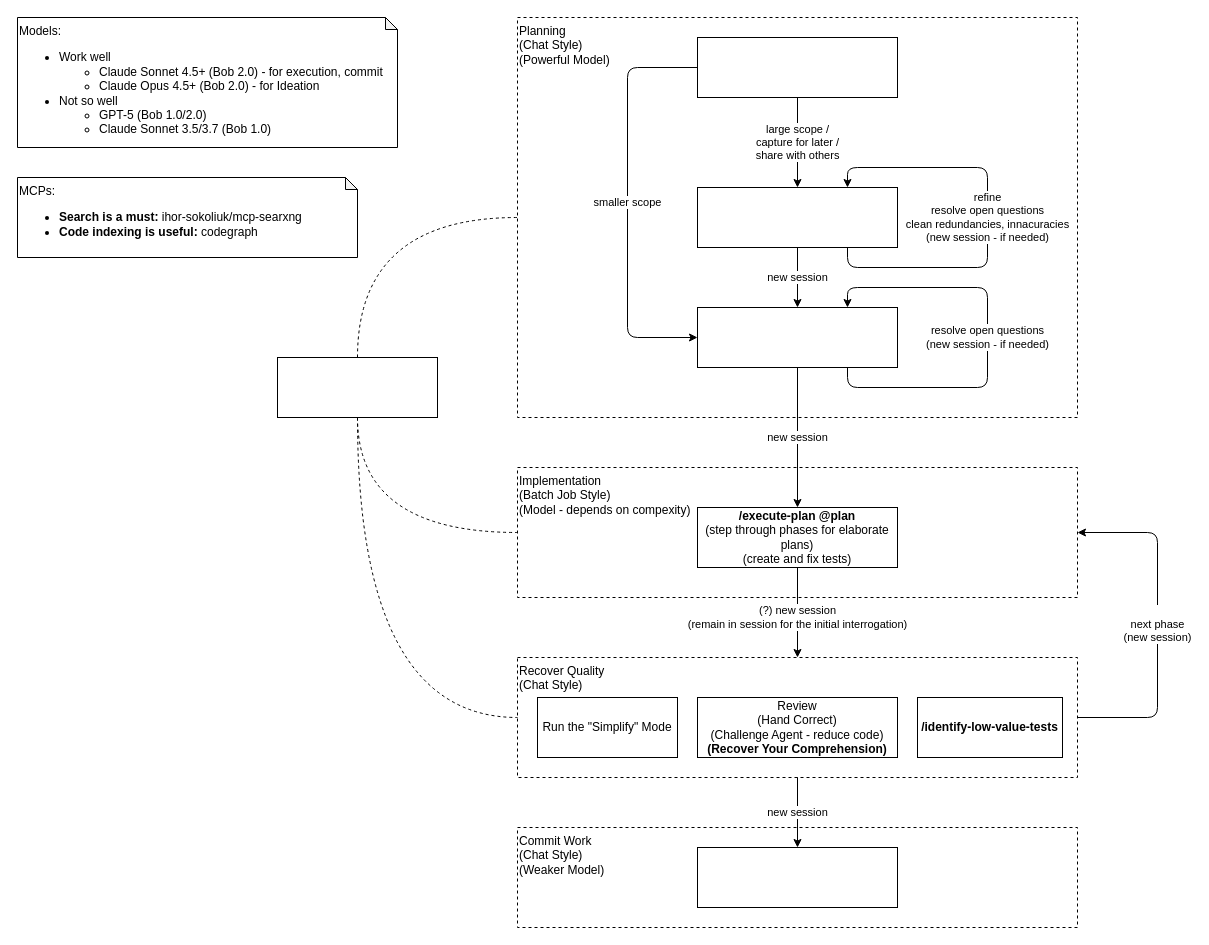
Image size: 1209x945. Some labels were removed from this diagram. The shapes that lost their labels are listed below. From the top down, each one's centre as x and y in pixels, then its label:
(797,67): Ideation ( Design mode) (Loading the context) (May stay pinned for a while)
(797,217): /create-proposal (for humans)
(797,337): /create-plan @proposal (for agents)
(357,387): Communication Style (anti-sichophancy)
(797,877): /prepare-next-commit /prepare-single-commit
